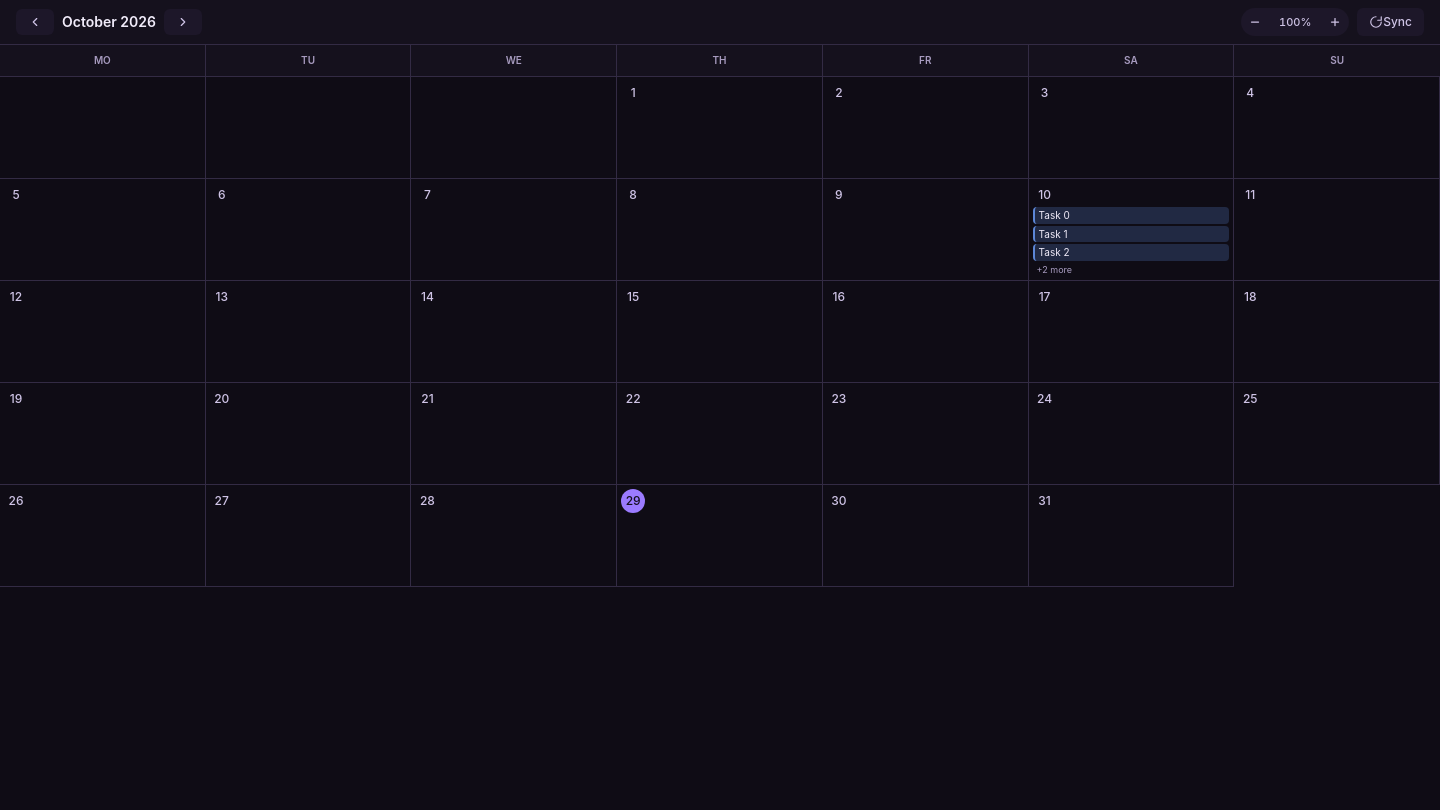
CalendarView › expands a busy day by ten tasks at a time
The width and height of the screenshot is (1440, 810).
Expected: the text "Task 0" is shown, x1=1033 y1=207 x2=1229 y2=224
Expected: the text "Task 4" is not shown
Step 1. Click the button "+2 more" → (1054, 269), box x1=1033 y1=262 x2=1076 y2=276
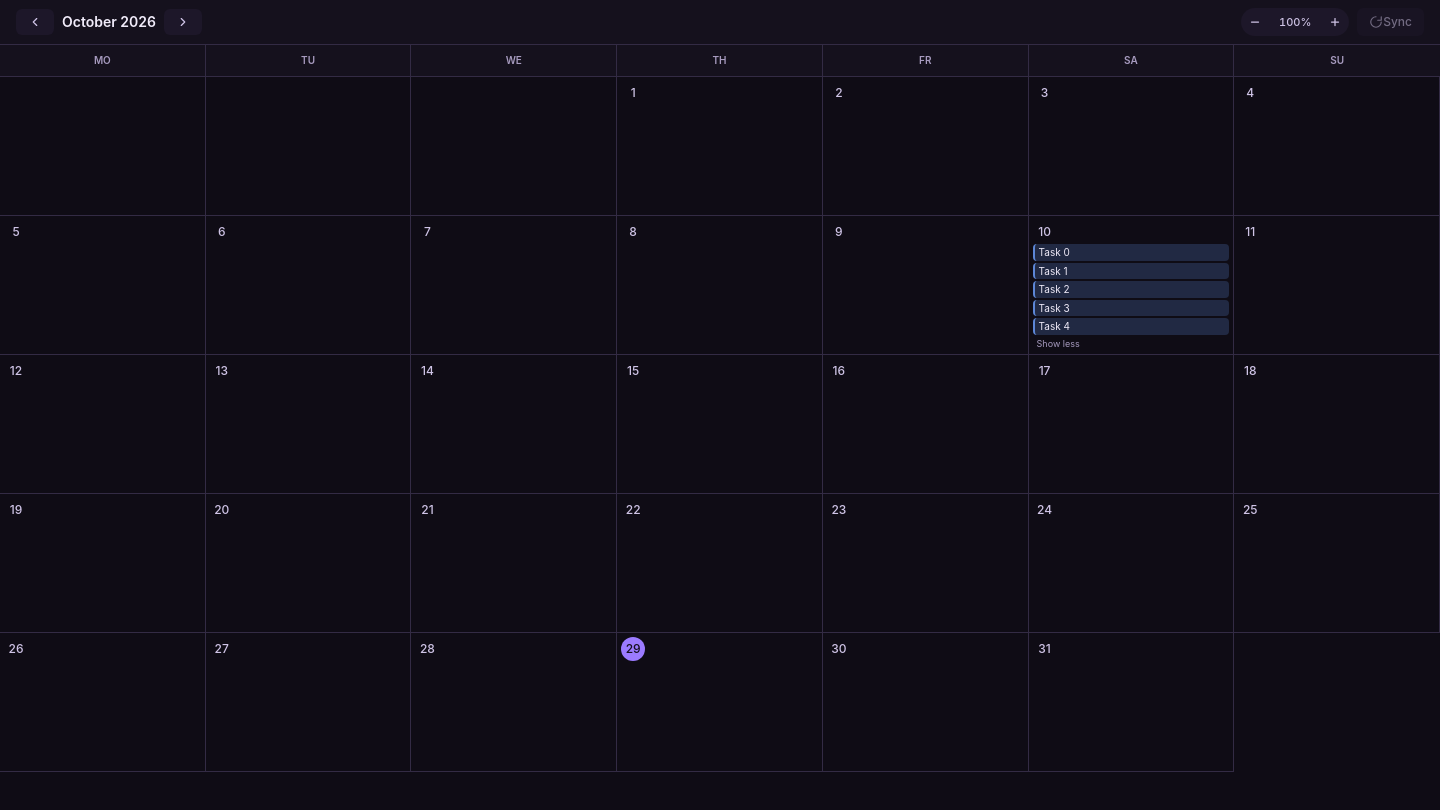
Result: the text "Task 4" is shown at x1=1033 y1=318 x2=1229 y2=334
Result: the button "Show less" is shown at x1=1033 y1=336 x2=1084 y2=350
